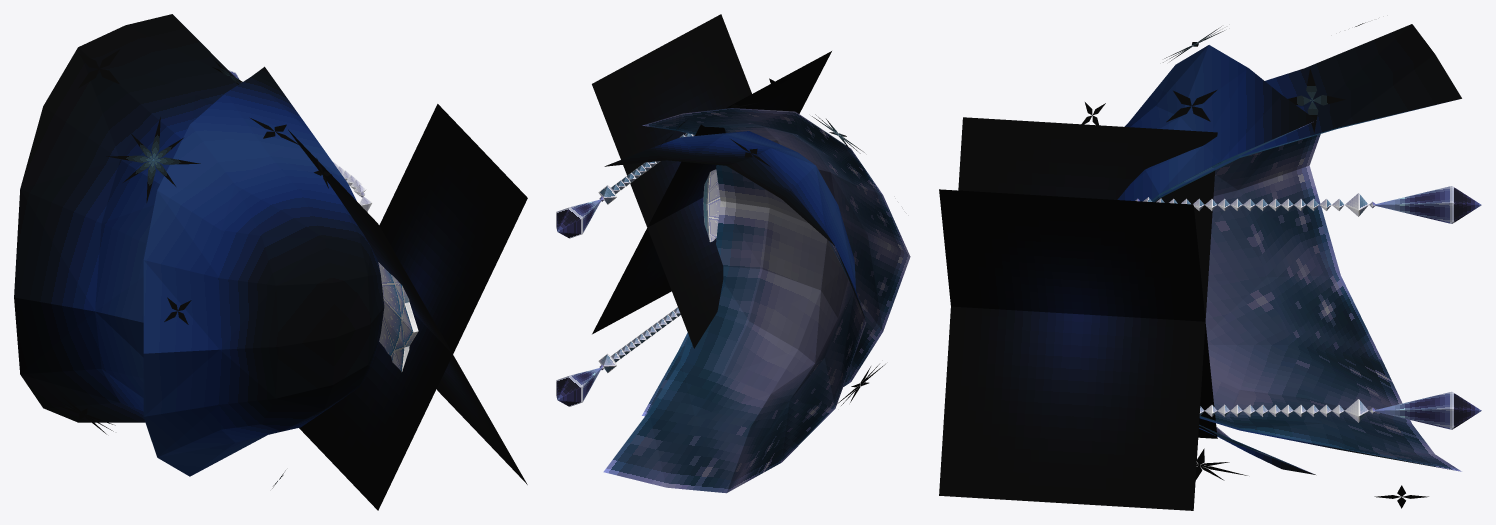
File: acce80.obj
3 views of the same model, side by side, from view 1: azimuth 30°, elevation 25°; view 2: azimuth 150°, elevation 25°; view 3: azimuth 270°, elevation 25° (orthographic). The views are drawn at different scales.
Visible parts, largest first — view 1: acce80; view 2: acce80; view 3: acce80.
Part boxes in pixels (x1,y1,x2,y2): acce80: (14, 14, 527, 510); acce80: (556, 14, 910, 493); acce80: (939, 22, 1481, 510).
Bounding box in the file's own units: 0.6599 × 0.731 × 0.7879.
Materials: 2 (2 with a texture image).
